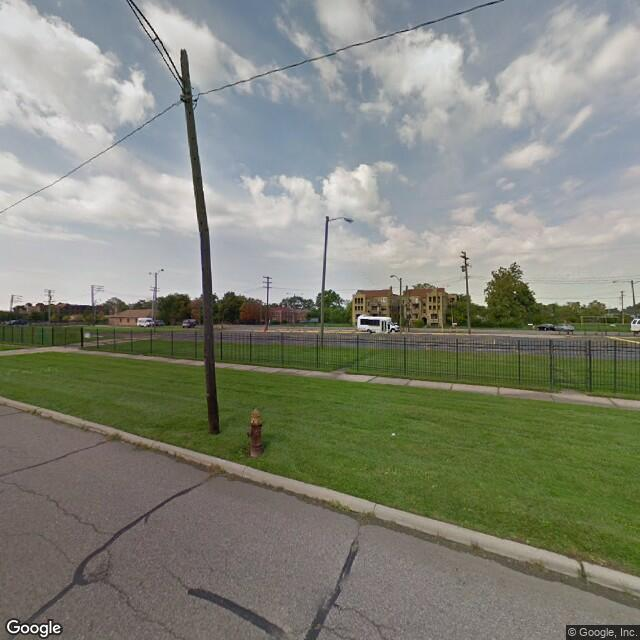litter: (388, 431, 398, 438)
